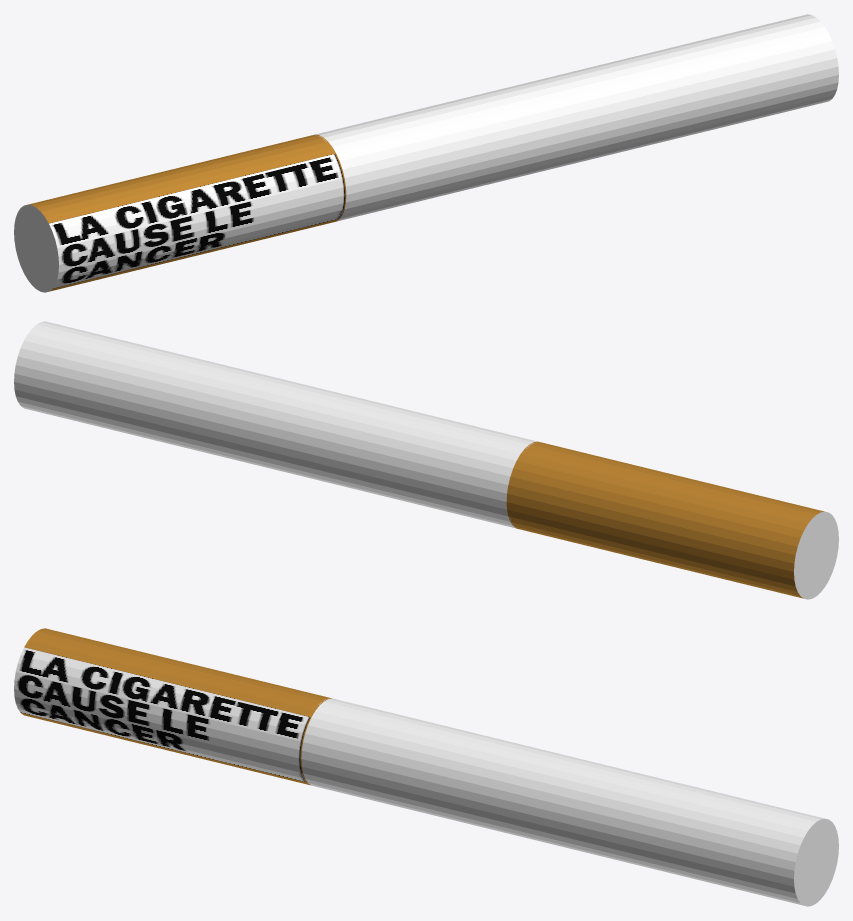
Rendered from Cigarette.fbx.
The picture shows the model from 3 angles, top to bottom: view 1: azimuth 30°, elevation 25°; view 2: azimuth 150°, elevation 25°; view 3: azimuth 330°, elevation 25°; orthographic projection.
Parts seen in each view (by area): view 1: Cylinder.003; view 2: Cylinder.003; view 3: Cylinder.003.
Part boxes in pixels (x1,y1,x2,y2): Cylinder.003: [14, 14, 838, 292]; Cylinder.003: [14, 321, 838, 599]; Cylinder.003: [14, 628, 838, 906].
Bounding box in the file's own units: 20 × 2 × 2.
Materials: 1 (1 with a texture image).
